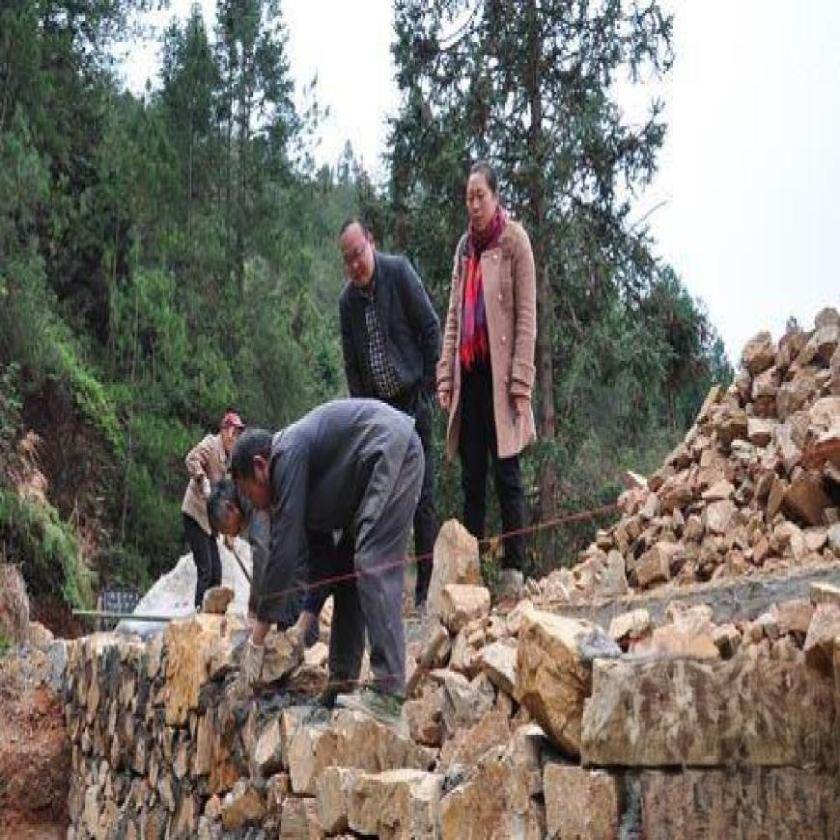Sin_casco: (322, 187, 396, 296), (221, 438, 281, 505), (465, 156, 502, 243)
